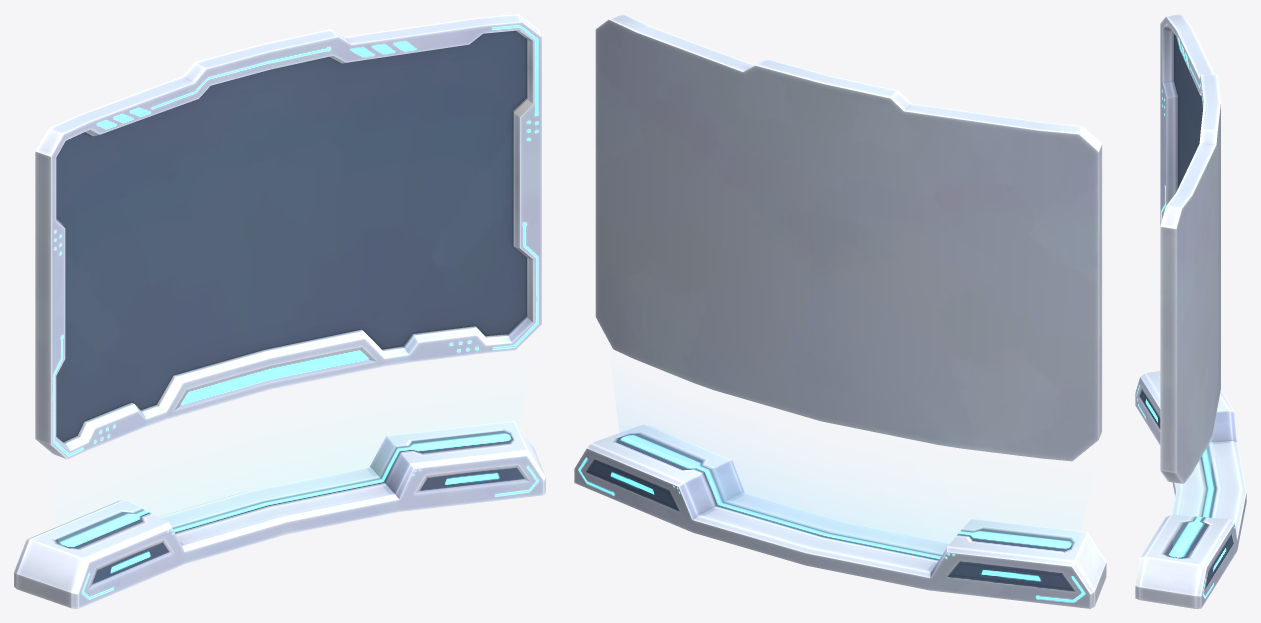
Rendered from obj_screen07.gltf.
3 renders of one model, left to right at view 1: azimuth 30°, elevation 25°; view 2: azimuth 150°, elevation 25°; view 3: azimuth 270°, elevation 25°, orthographic. The views are drawn at different scales.
Visible parts, largest first — view 1: obj_screen07; view 2: obj_screen07; view 3: obj_screen07.
Boxes of the visible parts, bbox=[...] form: obj_screen07: bbox=[14, 14, 545, 608]; obj_screen07: bbox=[574, 14, 1106, 608]; obj_screen07: bbox=[1135, 14, 1246, 608].
Size of what is drawn, in the model's own units: 4.24 by 3.69 by 0.9338.
Materials: 2 (2 with a texture image).
